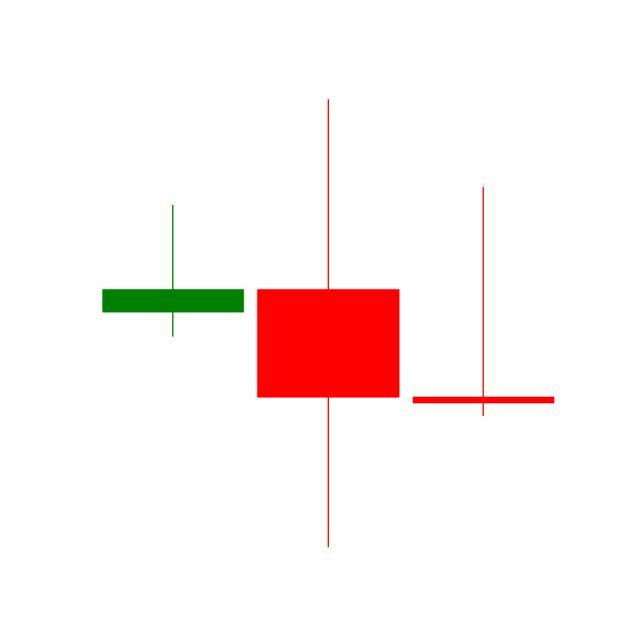Gravestone Doji: (406, 184, 562, 419)
